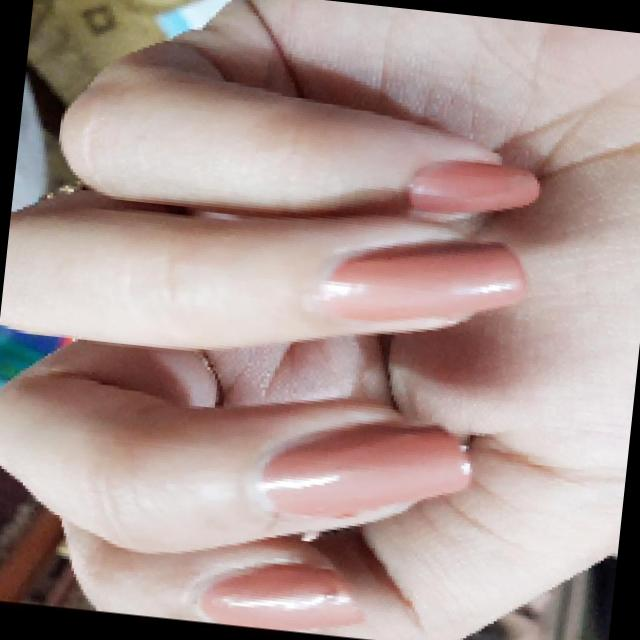Nail: (258, 424, 469, 517), (317, 246, 523, 321), (200, 562, 360, 629), (406, 160, 538, 212)
